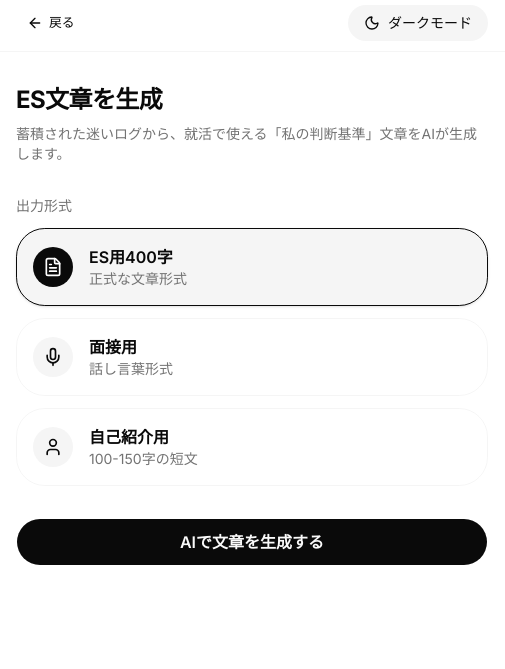
it: ES生成ページ › APIエラー時にエラーメッセージを表示する
Click the button "AIで文章を生成する". click: (252, 542)
box: [16,518,488,566]
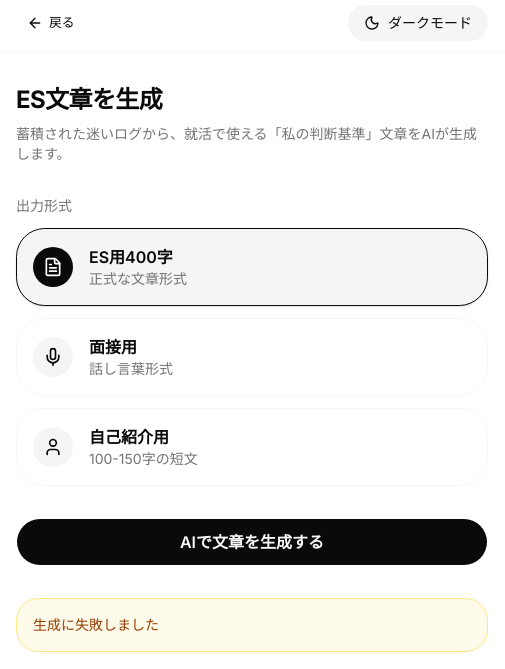
Result: the text "生成に失敗しました" is shown at [16,598,488,652]
